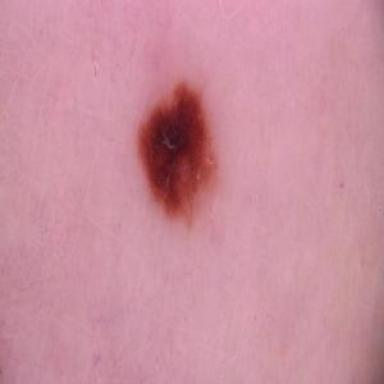Melanoma: (138, 81, 217, 225)
